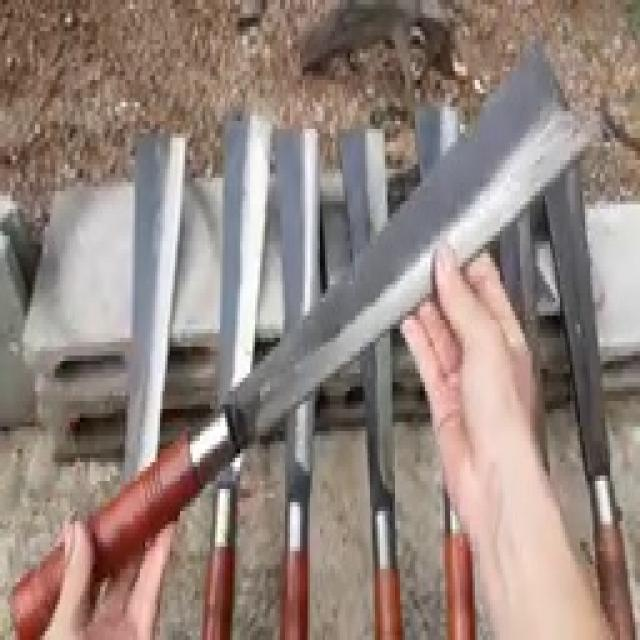eto: (7, 38, 589, 640)
